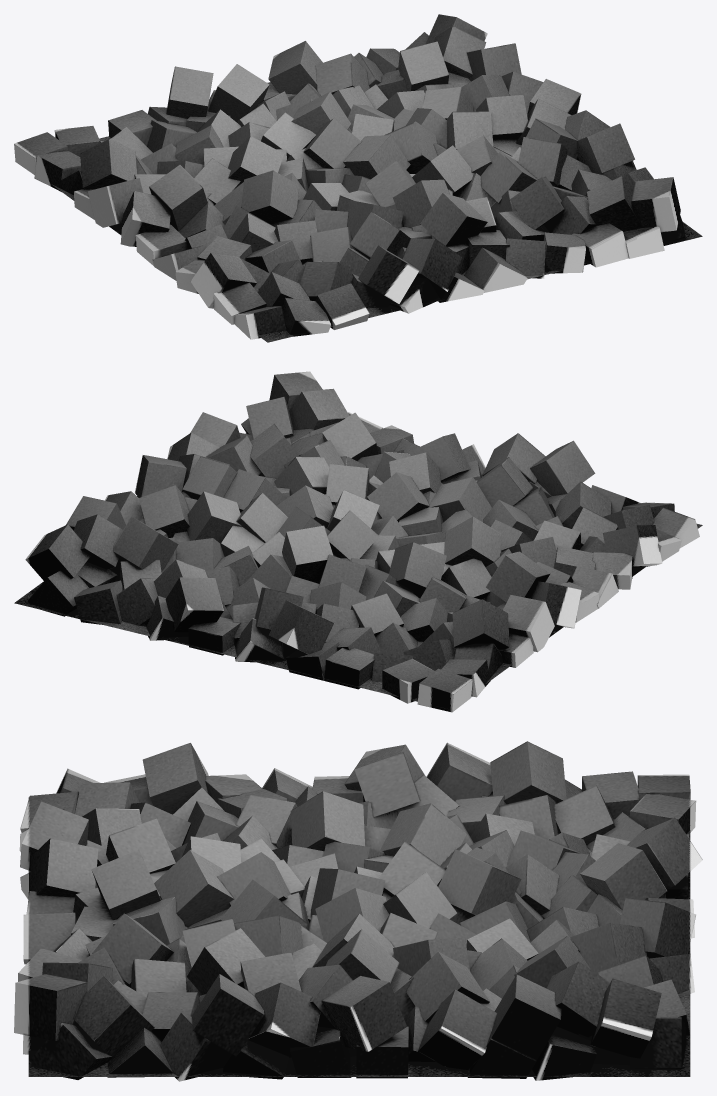
File: foampit.fbx
The picture shows the model from 3 angles, top to bottom: view 1: azimuth 30°, elevation 25°; view 2: azimuth 150°, elevation 25°; view 3: azimuth 270°, elevation 25°; orthographic projection. The views are drawn at different scales.
Visible parts, largest first — view 1: Cube.001; view 2: Cube.001; view 3: Cube.001.
Boxes of the visible parts, x1=… form: Cube.001: x1=14, y1=14, x2=702, y2=342; Cube.001: x1=14, y1=371, x2=702, y2=712; Cube.001: x1=14, y1=741, x2=702, y2=1081.
Bounding box in the file's own units: 132 × 20.04 × 133.
2 materials, 2 textured.
